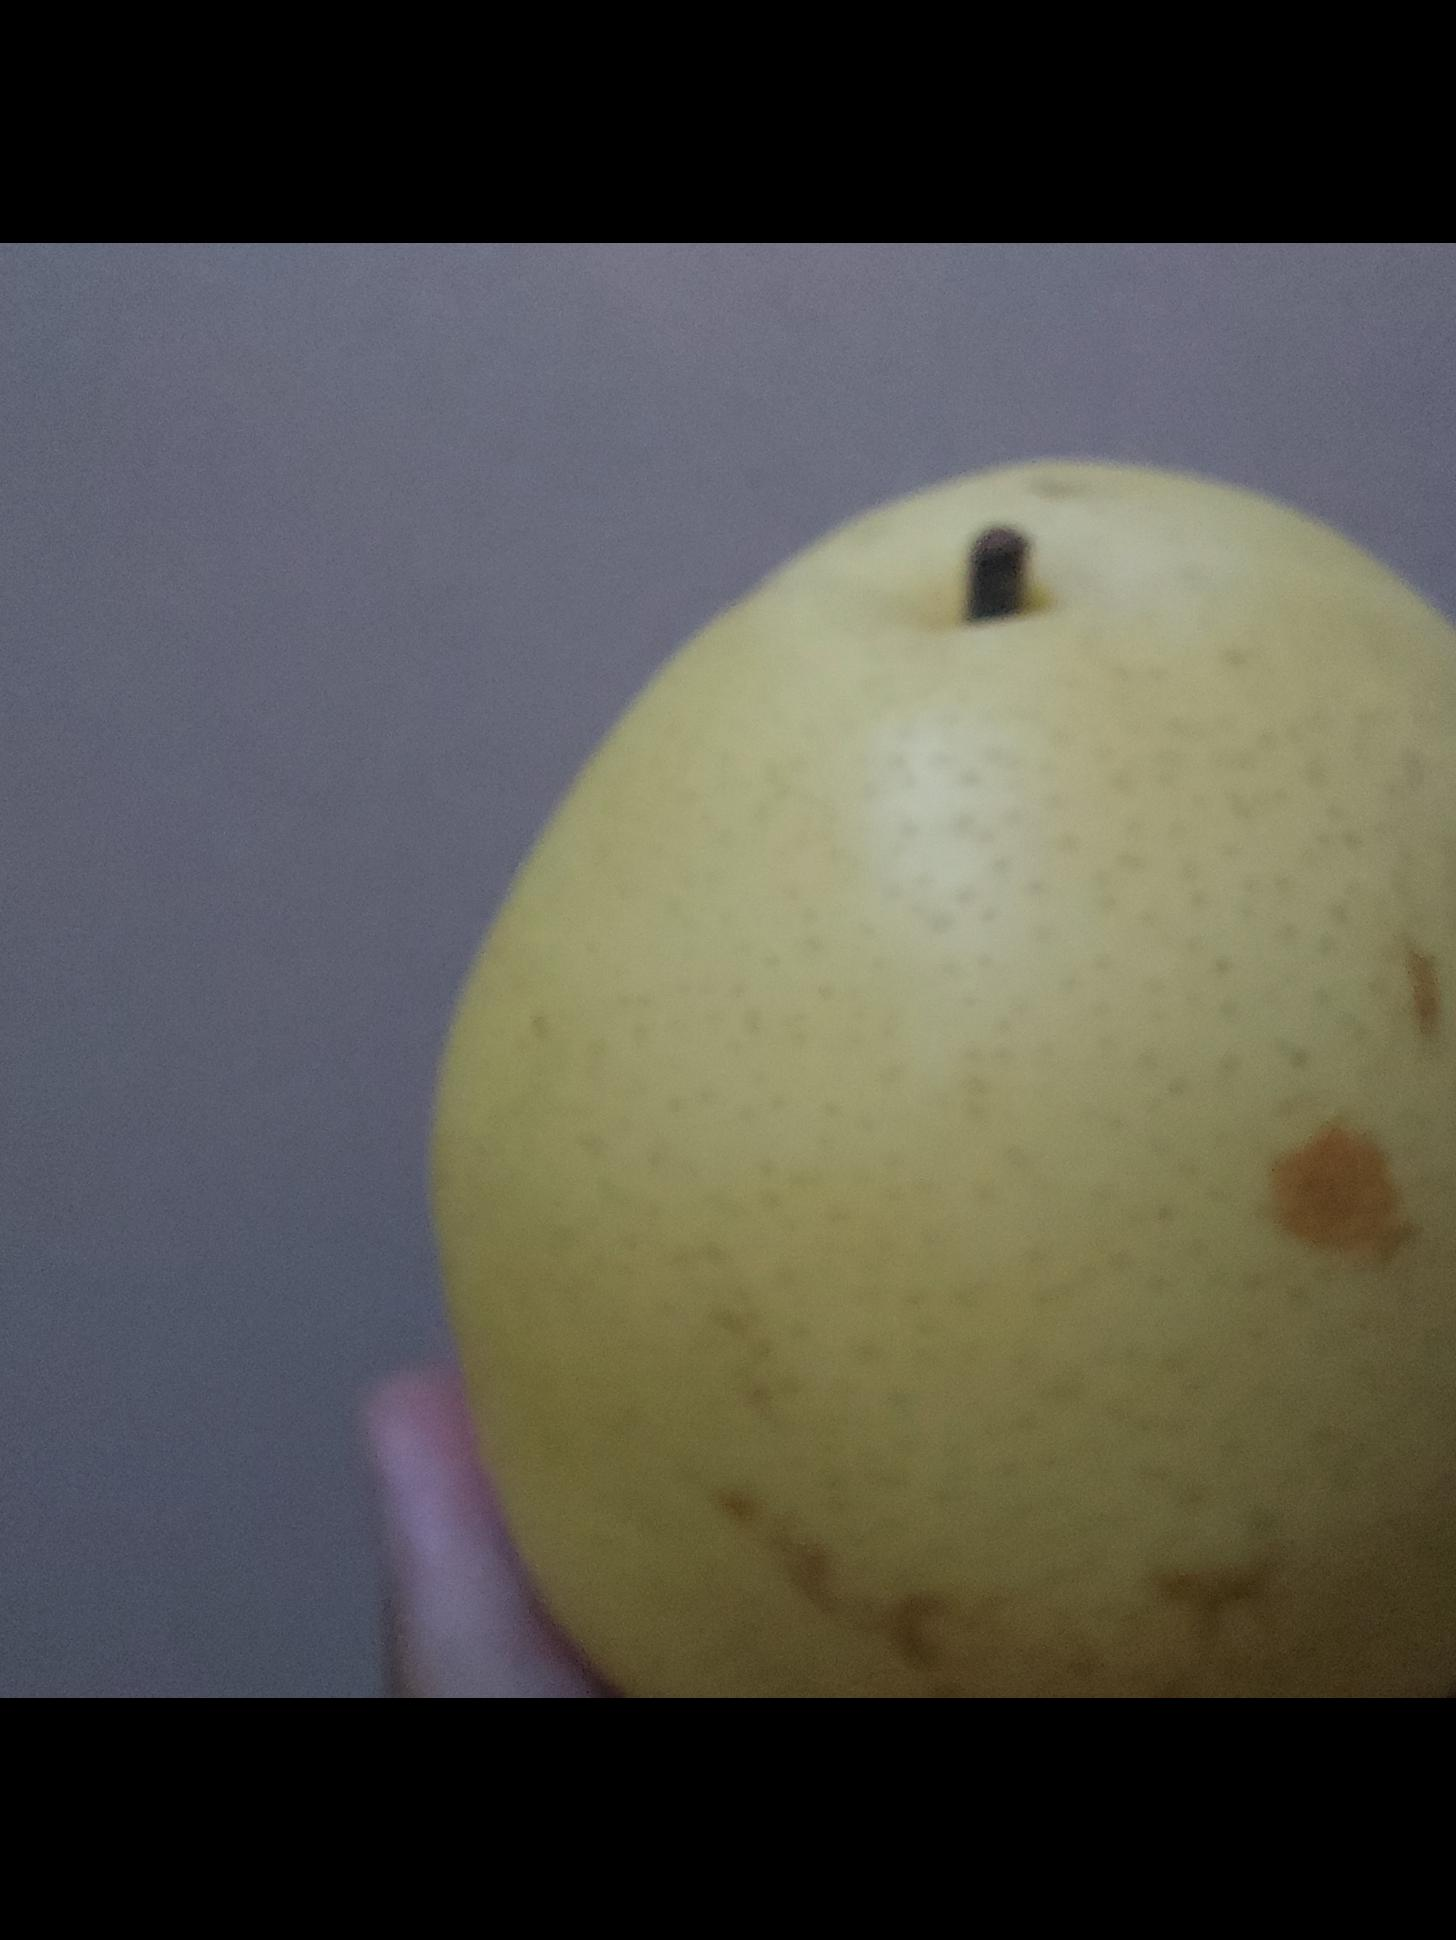Good Pear: (434, 454, 1456, 1698)
